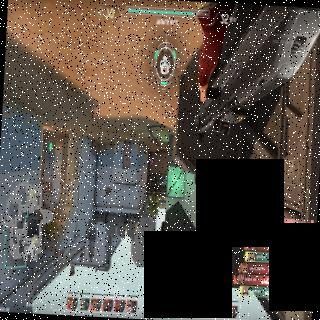ENEMY-BODY: (150, 148, 154, 164)
ENEMY-HEAD: (151, 162, 152, 164)
